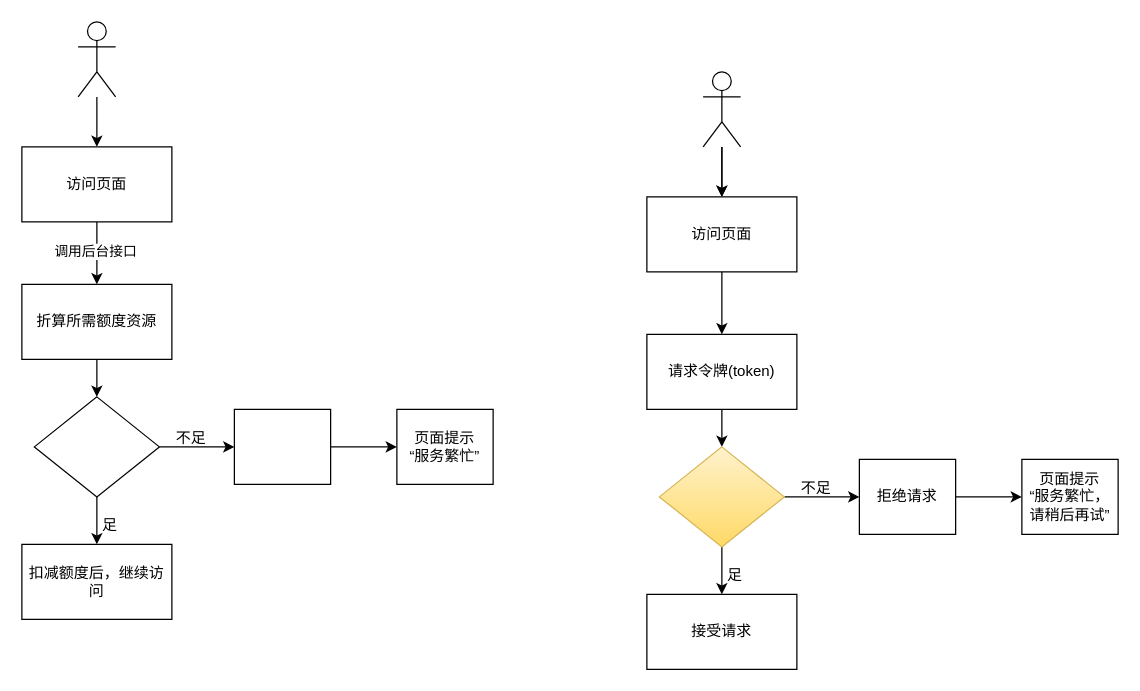
The diagram is 1140 pixels wide and 691 high, and some of its shapes have lost their labels. Each missing label, with the centre of its shape:
"Actor" goes at (96,59).
"token 是否充足？" goes at (721,496).
"剩余额度是否充足" goes at (96,446).
"接口退出" goes at (282,446).
